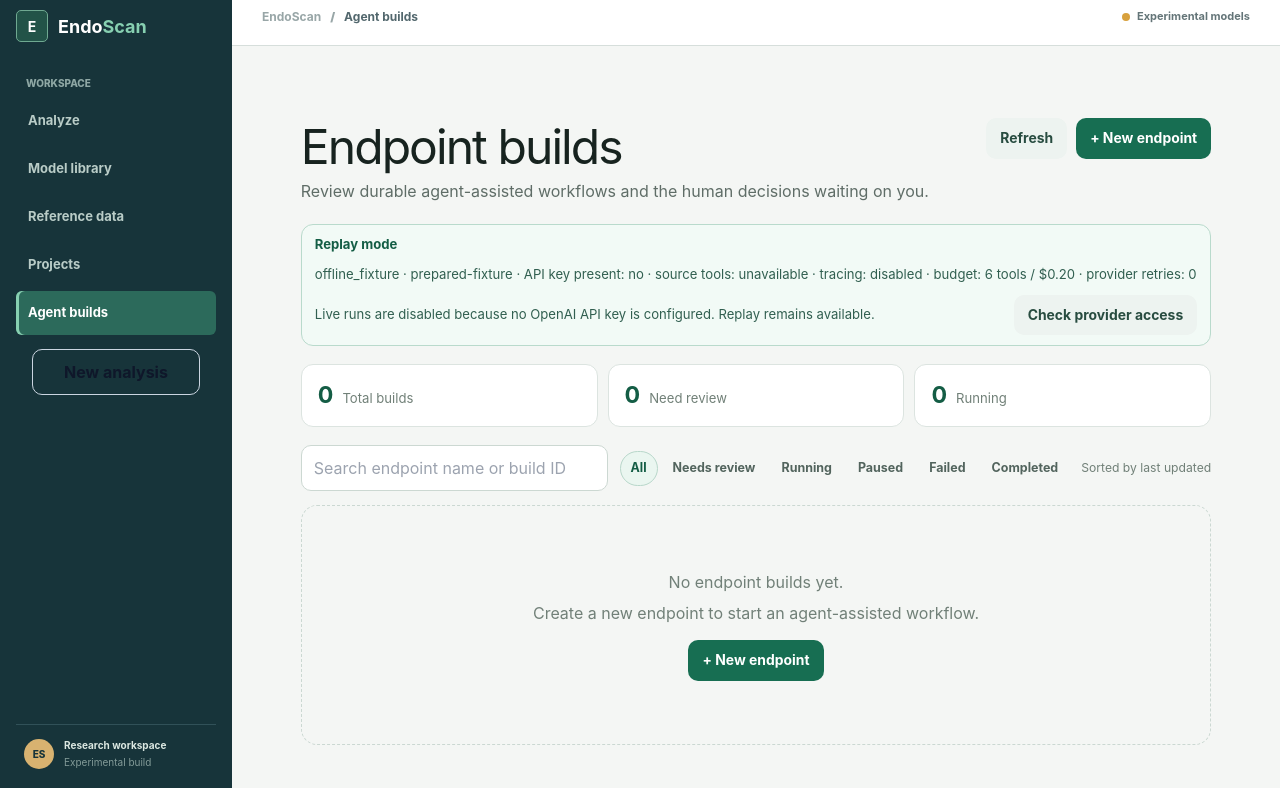
it: endpoint-build list and creation › opens creation in a focus-managed dialog and creates a durable route
Expected: the heading "No endpoint builds yet." is shown, [669,572,843,592]
Click the 1st button "+ New endpoint" at (1144, 138), box [1076,118,1211,159]
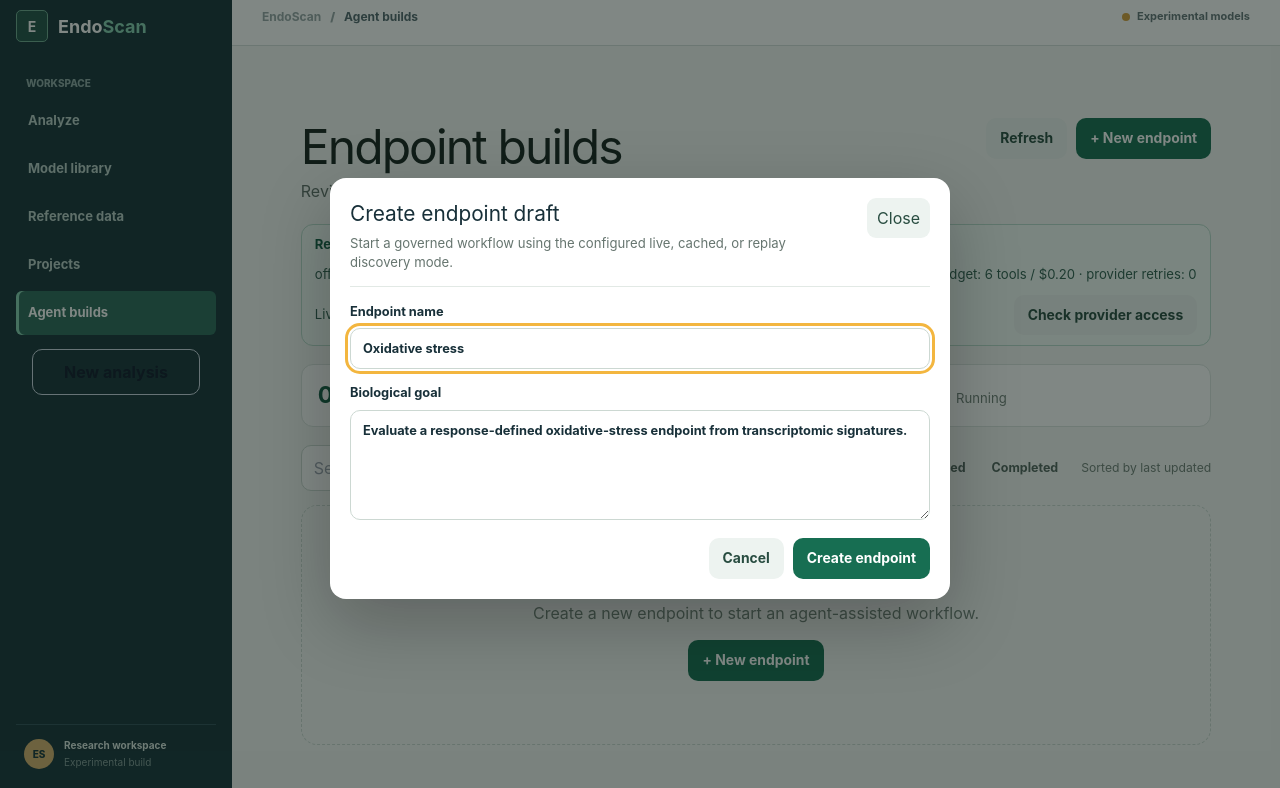
Click the button with aria-label "Close dialog" at (899, 218), box [867,198,930,238]
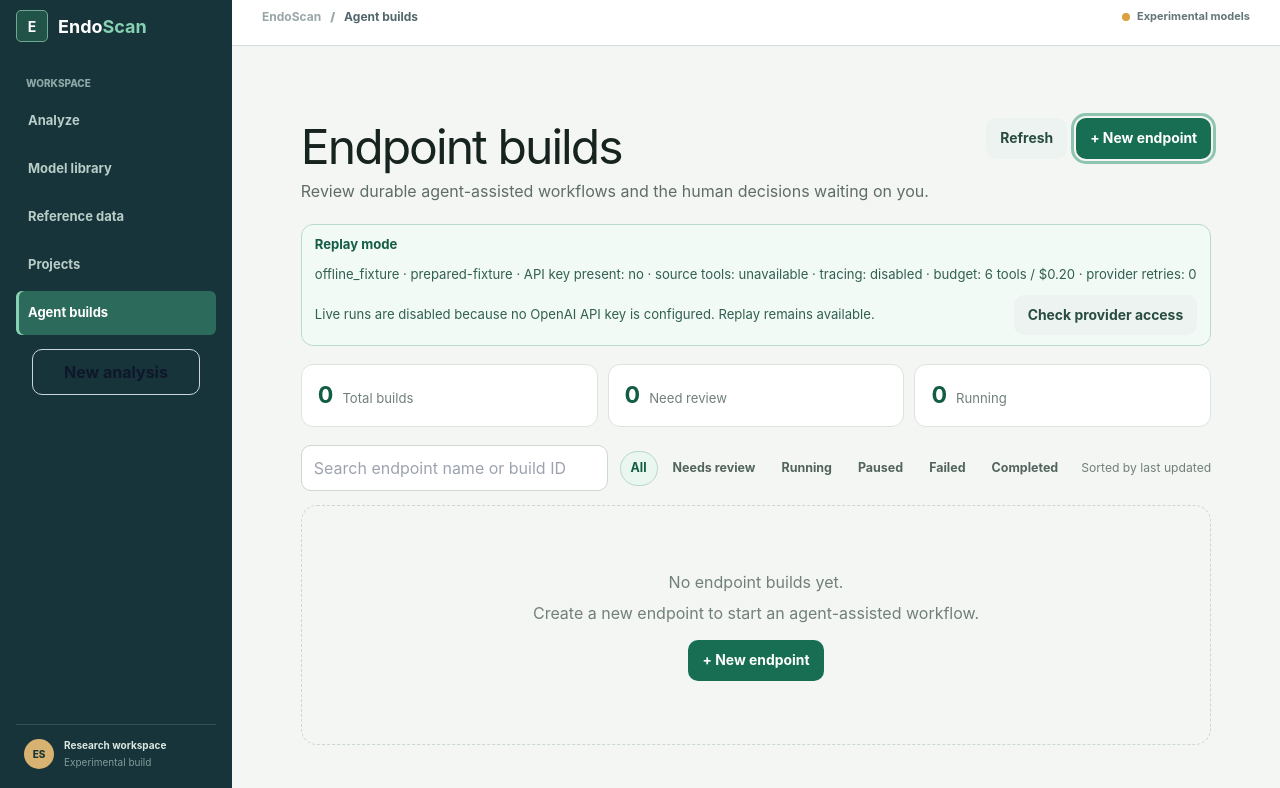
Click the 1st button "+ New endpoint" at (1144, 138), box [1076,118,1211,159]
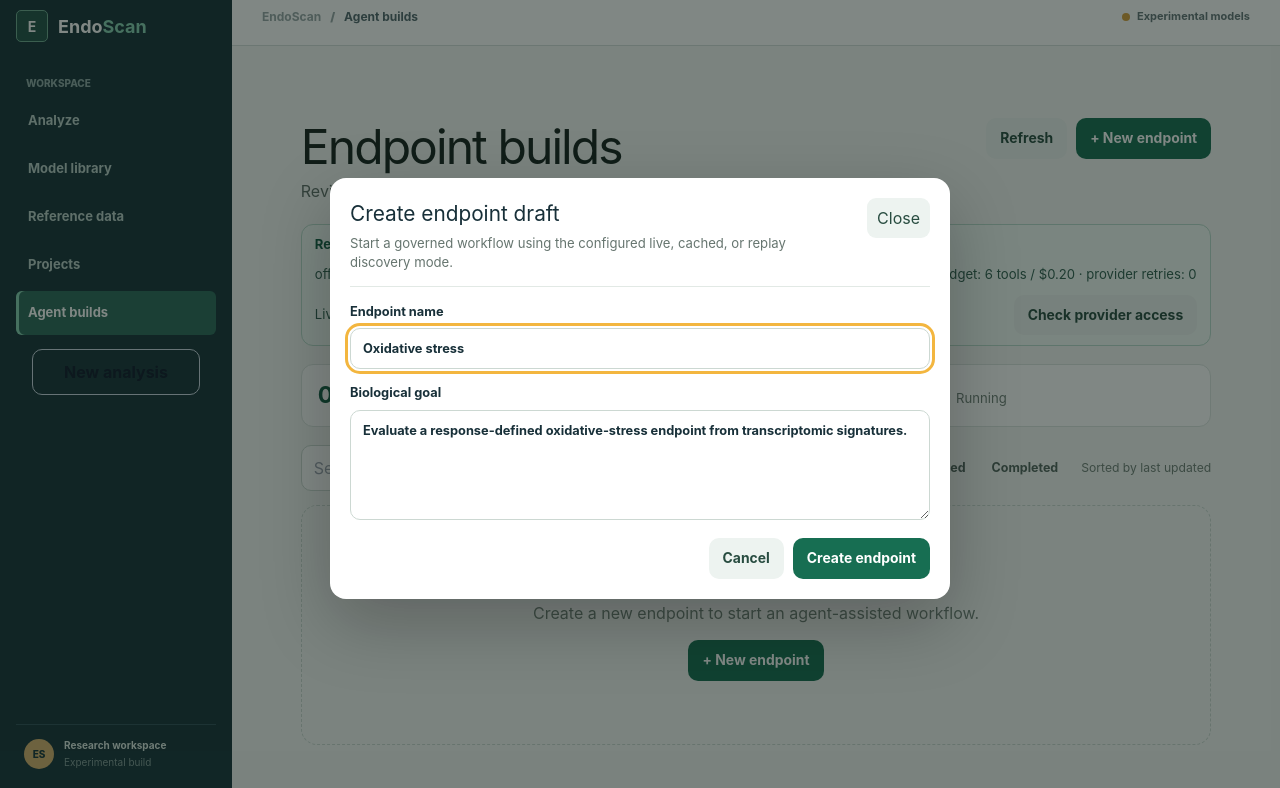
Click the button "Create endpoint" at (861, 558), box [793,538,930,578]
(page scrolled)
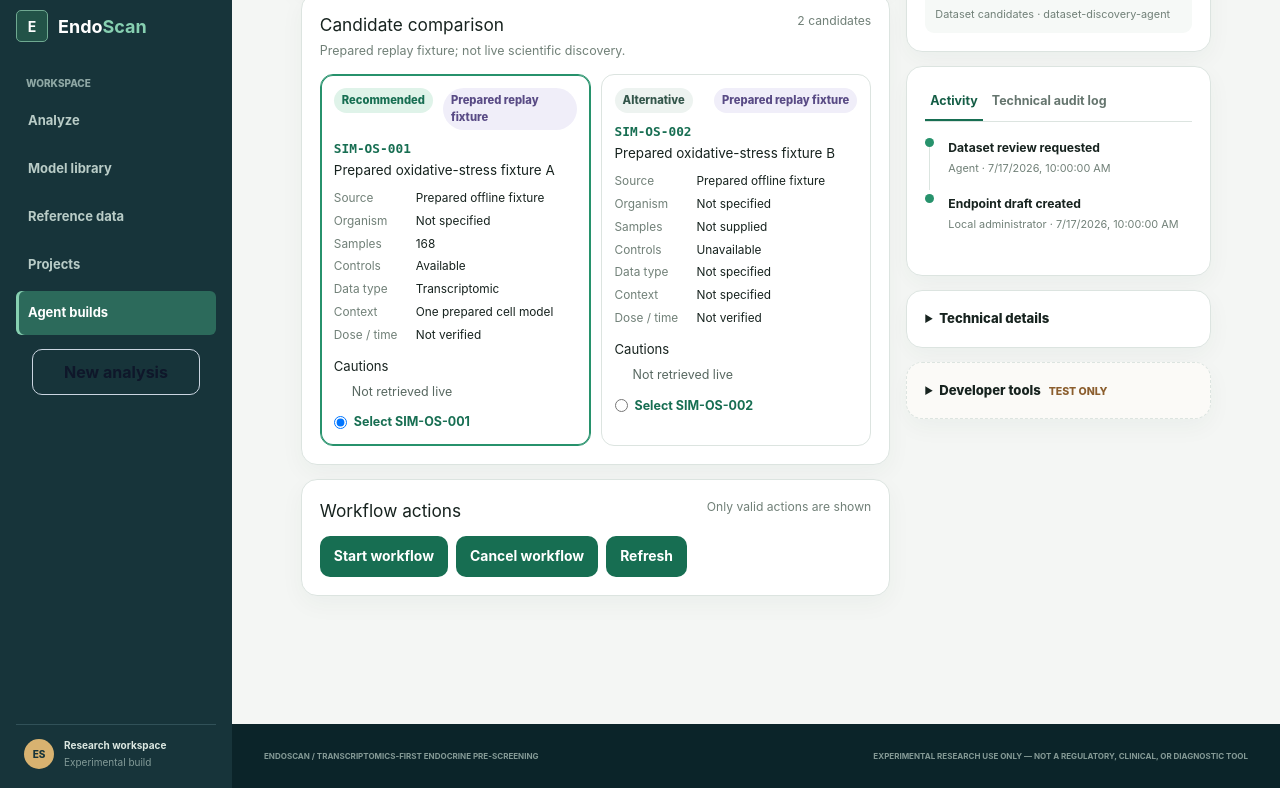
Expected: the button "Start workflow" is shown, [320,536,448,577]
